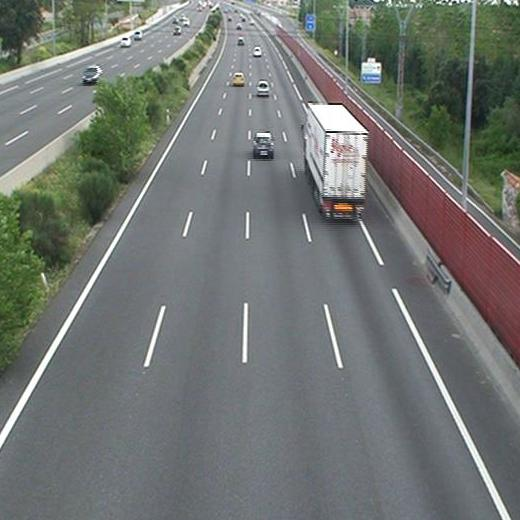car: (253, 133, 274, 156), (257, 81, 269, 95), (232, 73, 245, 85), (252, 46, 261, 57), (237, 37, 245, 45)
truck: (303, 103, 366, 219)
